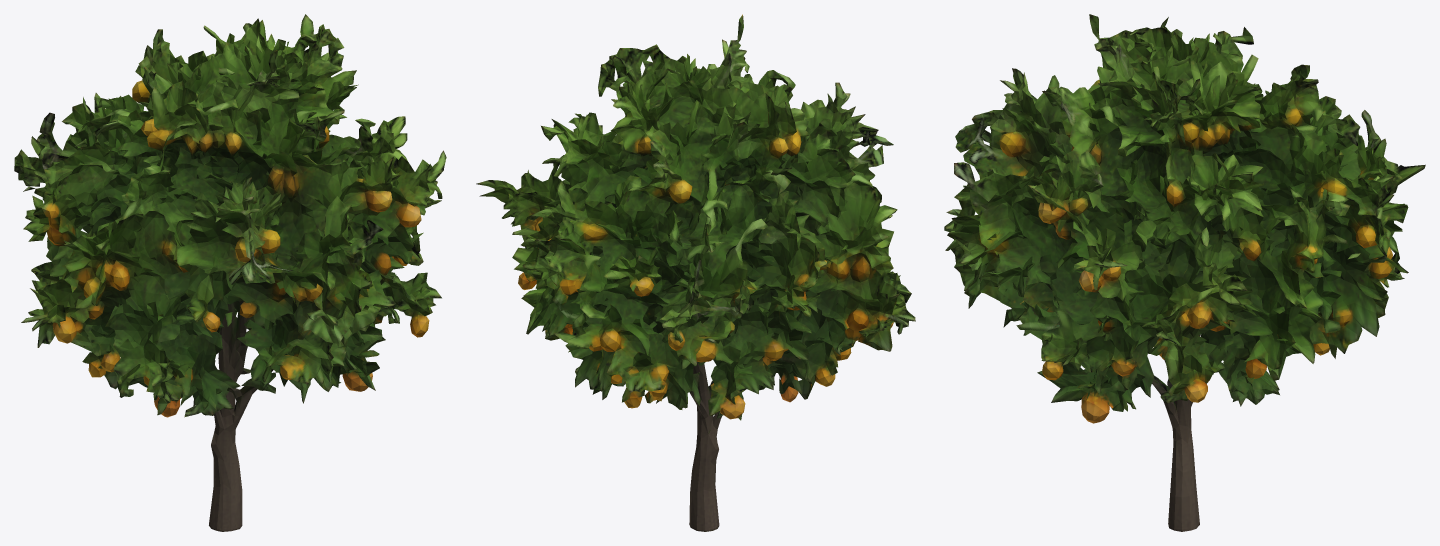
Rendered from tree.glb.
3 renders of one model, left to right at view 1: azimuth 30°, elevation 25°; view 2: azimuth 150°, elevation 25°; view 3: azimuth 270°, elevation 25°, orthographic. The views are drawn at different scales.
Parts seen in each view (by area): view 1: world; view 2: world; view 3: world.
Boxes of the visible parts, bbox=[...] form: world: bbox=[14, 14, 446, 531]; world: bbox=[476, 14, 915, 531]; world: bbox=[944, 14, 1425, 531].
Bounding box in the file's own units: 0.8685 × 0.9983 × 0.848.
1 material, 1 textured.
